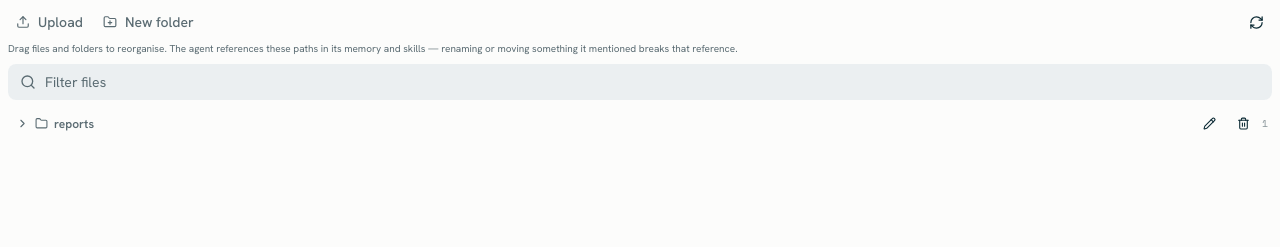
getting from the file to the composer › offers one after the share, naming the file it captured
This screenshot has width=1280, height=247.
Click the button "reports" at (74,124), box 8,112 -> 1192,136
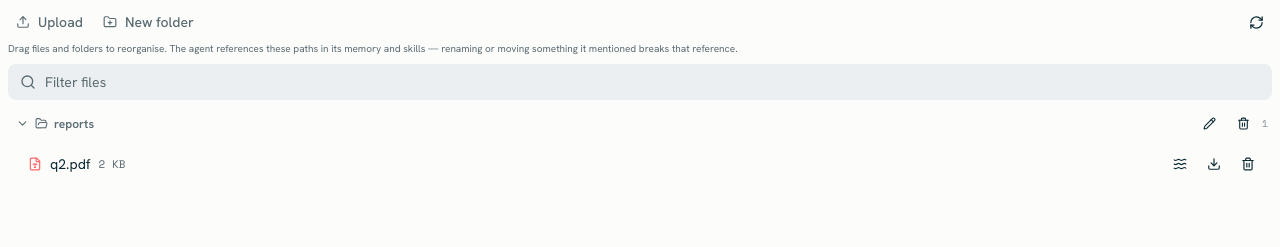
Click the button named "Share in the mangrove q2.pdf" at (1180,164), box 1164,148 -> 1196,180
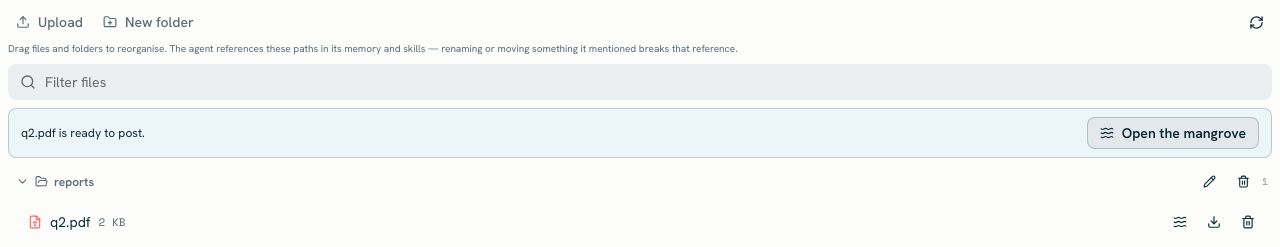
Now the text "q2.pdf" is shown, box 21,124 -> 145,140
Now the button "Open the mangrove" is shown, box 1087,117 -> 1259,149
